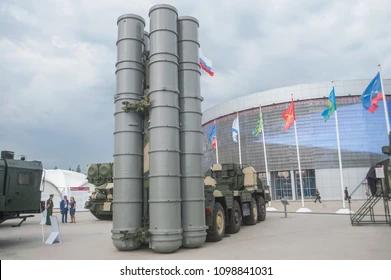MIL_SAM_TEL: (107, 2, 268, 252)
